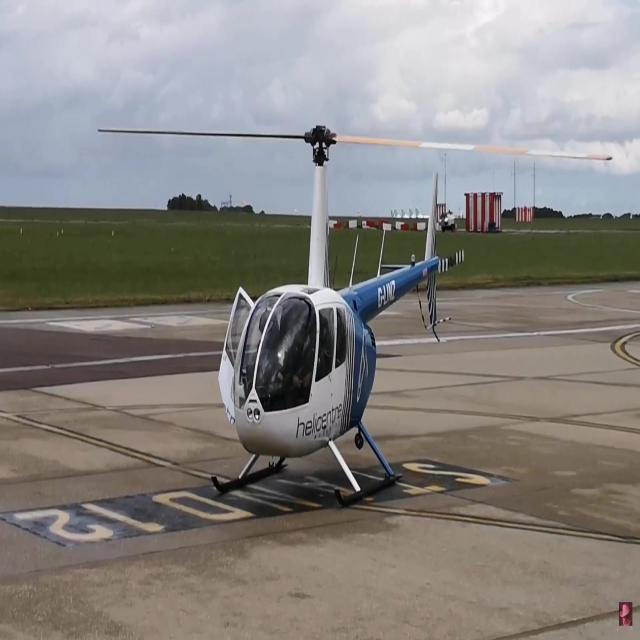CIV_HELO: (209, 121, 456, 508)
